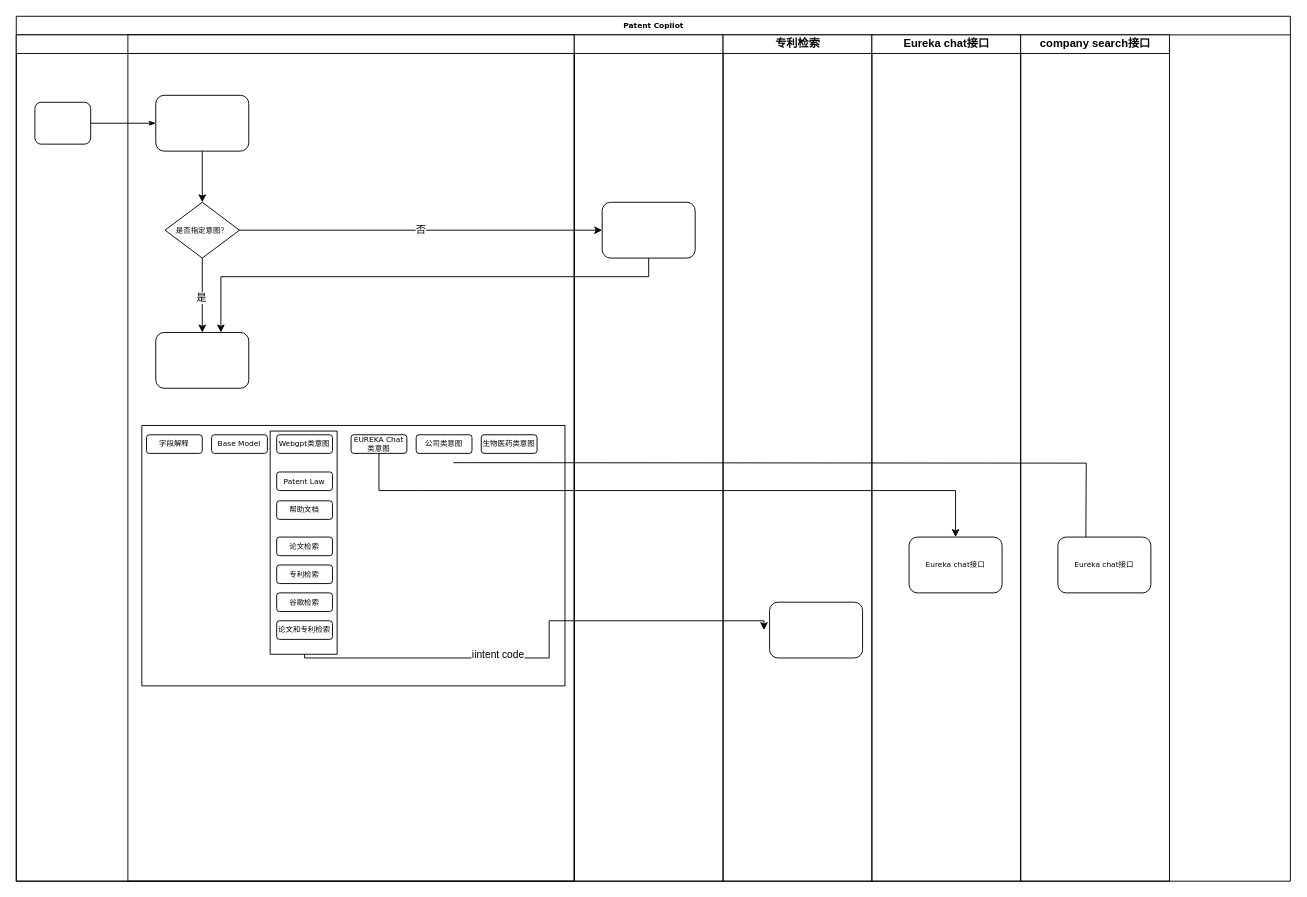
This 1307x897 diagram has some shape labels left out. Each missing label, with the box of its shape:
patent llm service: (127, 34, 574, 881)
专利类搜索接口: (769, 601, 863, 658)
安全检查: (155, 94, 249, 151)
意图分类: (601, 201, 695, 258)
意图分类接口: (573, 34, 723, 881)
用户问题: (34, 101, 91, 144)
获取意图: (155, 332, 249, 388)
